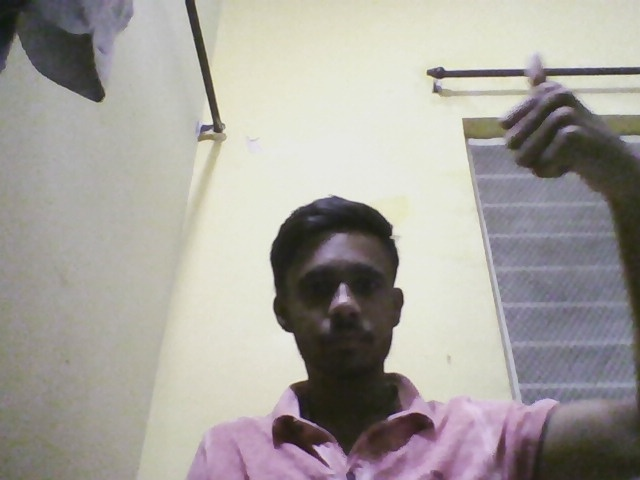yes: (474, 44, 623, 197)
